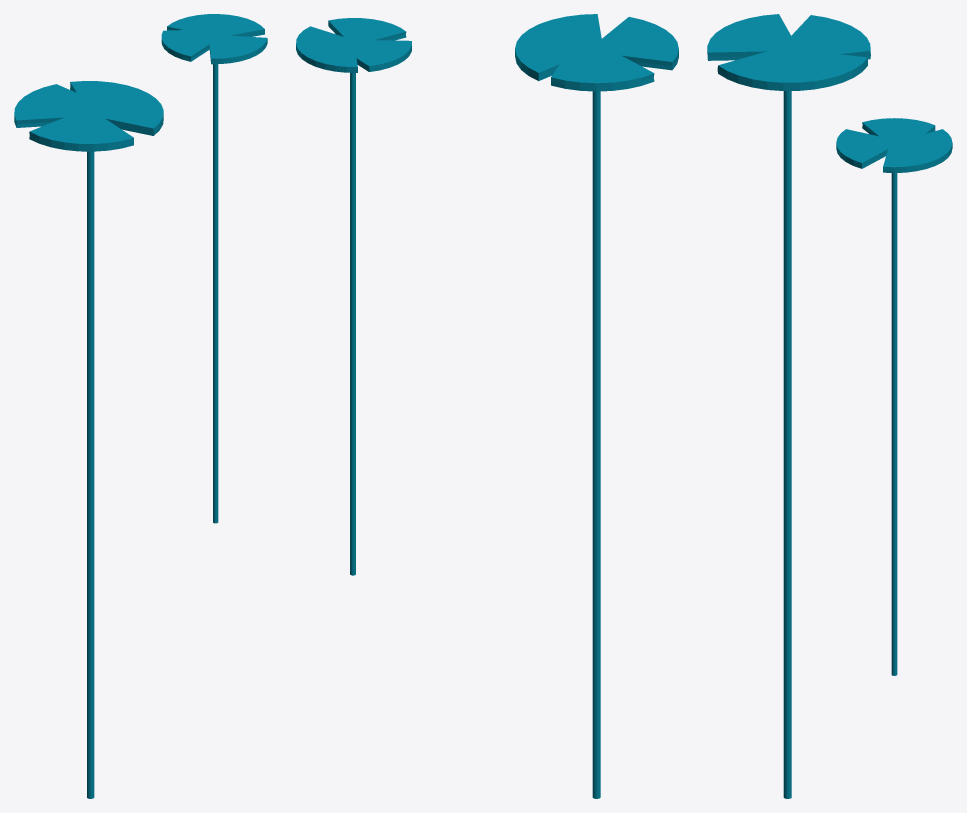
File: lilygroup3.fbx
3 views of the same model, side by side, from view 1: azimuth 30°, elevation 25°; view 2: azimuth 150°, elevation 25°; view 3: azimuth 270°, elevation 25° (orthographic). The views are drawn at different scales.
Visible parts, largest first — view 1: LilyPad1 (6), LilyPad1 (5); view 2: LilyPad1 (6), LilyPad1 (5); view 3: LilyPad1 (6), LilyPad1 (5).
Boxes of the visible parts, x1,y1,x2,y2 form: LilyPad1 (6): (14,81,163,798); LilyPad1 (5): (161,14,267,523); LilyPad1 (6): (515,14,678,798); LilyPad1 (5): (296,18,411,575); LilyPad1 (6): (707,14,870,798); LilyPad1 (5): (836,118,952,675).
Size of the model in its own units: 3.61 by 8.31 by 2.46.
